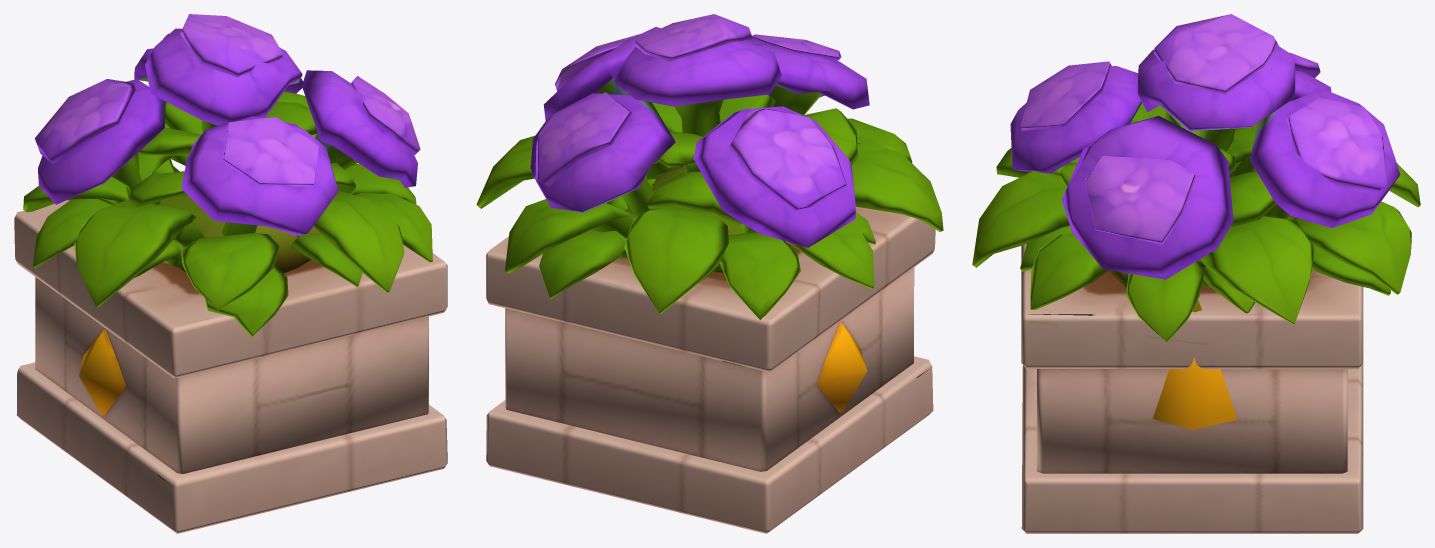
The model's file is pot_stone.glb.
3 renders of one model, left to right at view 1: azimuth 30°, elevation 25°; view 2: azimuth 150°, elevation 25°; view 3: azimuth 270°, elevation 25°, orthographic. The views are drawn at different scales.
Parts seen in each view (by area): view 1: geometry_0; view 2: geometry_0; view 3: geometry_0.
Part boxes in pixels (left/top/right/bottom): geometry_0: left=14, top=14, right=447, bottom=533; geometry_0: left=476, top=14, right=943, bottom=533; geometry_0: left=972, top=14, right=1420, bottom=533.
Bounding box in the file's own units: 0.8735 × 0.9517 × 0.8882.
Materials: 1 (1 with a texture image).
